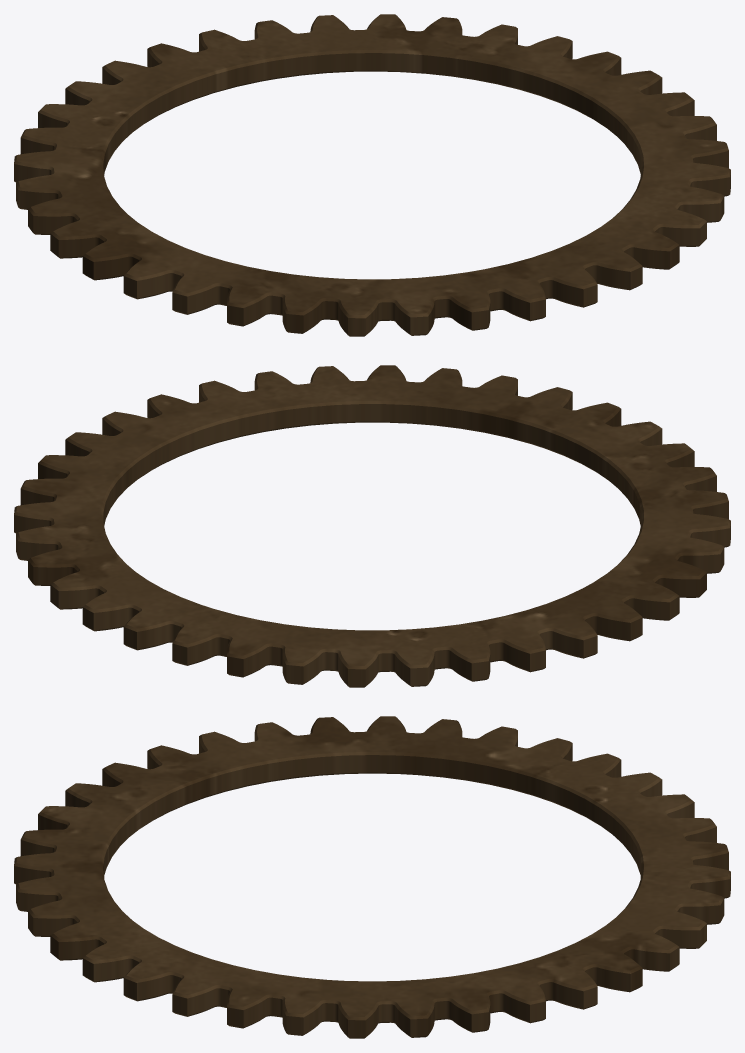
Rendered from gear5.fbx.
The picture shows the model from 3 angles, top to bottom: view 1: azimuth 30°, elevation 25°; view 2: azimuth 150°, elevation 25°; view 3: azimuth 270°, elevation 25°; orthographic projection.
Visible parts, largest first — view 1: gear_5; view 2: gear_5; view 3: gear_5.
Boxes of the visible parts, x1,y1,x2,y2 form: gear_5: [14, 14, 730, 336]; gear_5: [14, 365, 730, 687]; gear_5: [14, 716, 730, 1038].
Bounding box in the file's own units: 13.48 × 0.4503 × 13.48.
